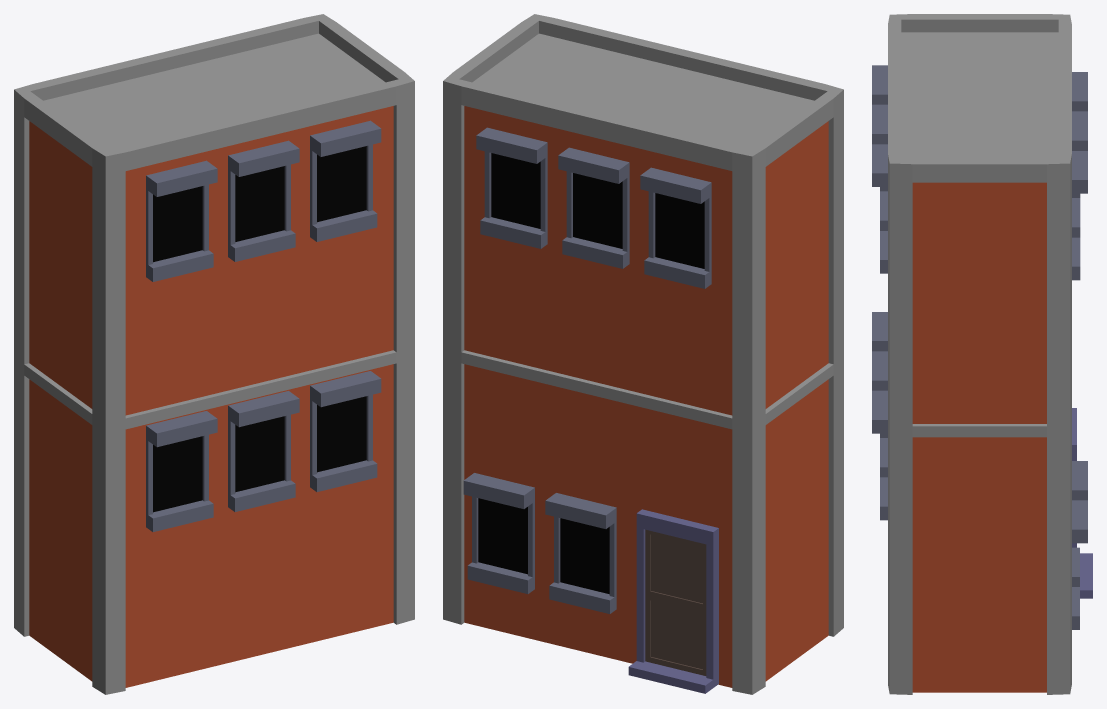
The model's file is building_3_001.glb.
3 views of the same model, side by side, from view 1: azimuth 30°, elevation 25°; view 2: azimuth 150°, elevation 25°; view 3: azimuth 270°, elevation 25° (orthographic).
Visible parts, largest first — view 1: building_3.001; view 2: building_3.001; view 3: building_3.001.
Boxes of the visible parts, box(x1,y1,x2,y2) form: building_3.001: box(14, 14, 414, 694); building_3.001: box(443, 14, 843, 694); building_3.001: box(872, 14, 1092, 694).
Bounding box in the file's own units: 4.13 × 6.8 × 2.56.
